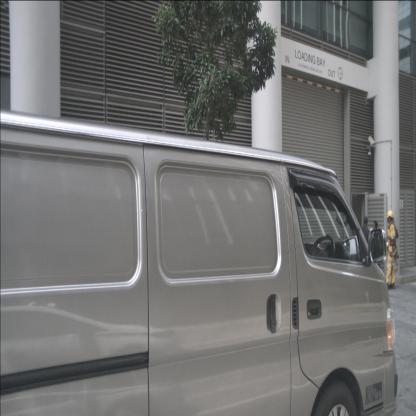human-pedestrian-adult: (384, 210, 400, 290), (358, 216, 372, 288), (370, 220, 382, 287)
vehicle-car: (1, 107, 399, 416)
